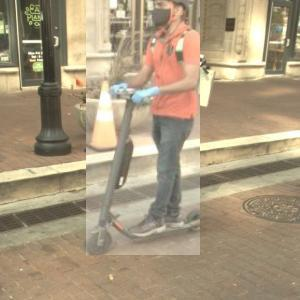with scooter: (86, 0, 200, 255)
